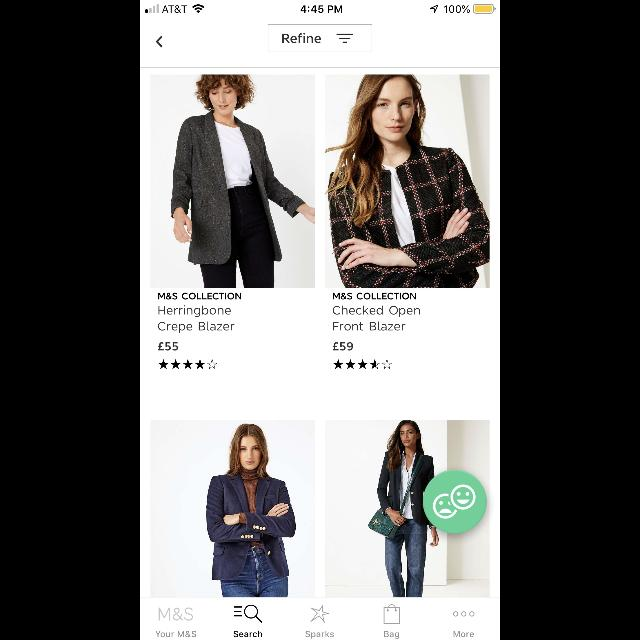icon: (333, 359, 393, 369), (158, 359, 216, 369), (234, 605, 262, 623), (309, 605, 329, 623), (384, 604, 400, 624), (336, 34, 354, 44), (453, 611, 475, 617), (156, 36, 162, 48)
image: (151, 75, 315, 288), (325, 75, 489, 288), (151, 421, 315, 597), (325, 421, 489, 597), (423, 470, 487, 534)
text: (158, 321, 235, 333), (332, 306, 420, 316), (157, 305, 230, 317), (157, 291, 241, 299), (332, 292, 416, 300), (333, 322, 405, 331), (282, 32, 322, 44), (159, 608, 193, 620), (156, 630, 197, 638), (234, 630, 262, 638), (306, 631, 334, 639), (156, 342, 178, 351), (333, 343, 353, 351), (384, 631, 400, 639), (454, 631, 474, 637)
textbutton: (268, 24, 372, 52)
uppertaskbar: (140, 0, 500, 14)
